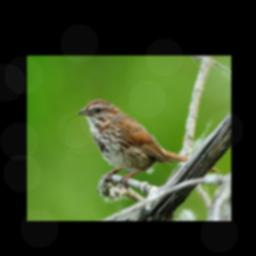Sparrow: (75, 98, 219, 190)
